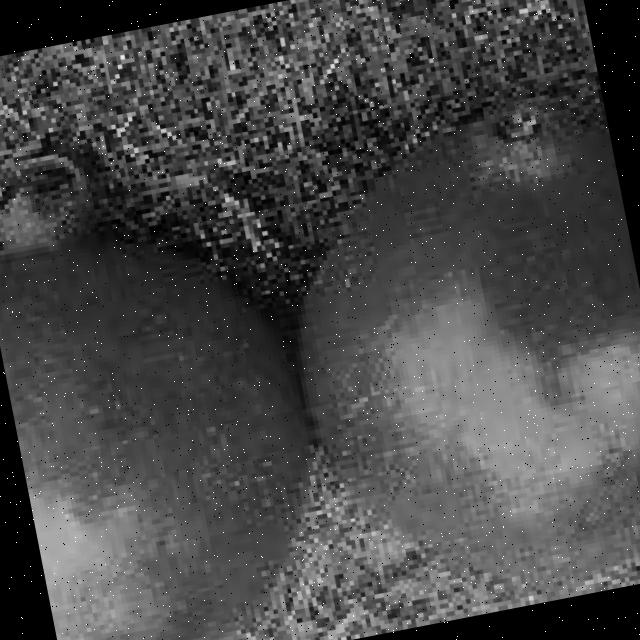Good_Pomegranate-50-60-days: (0, 97, 640, 640)
